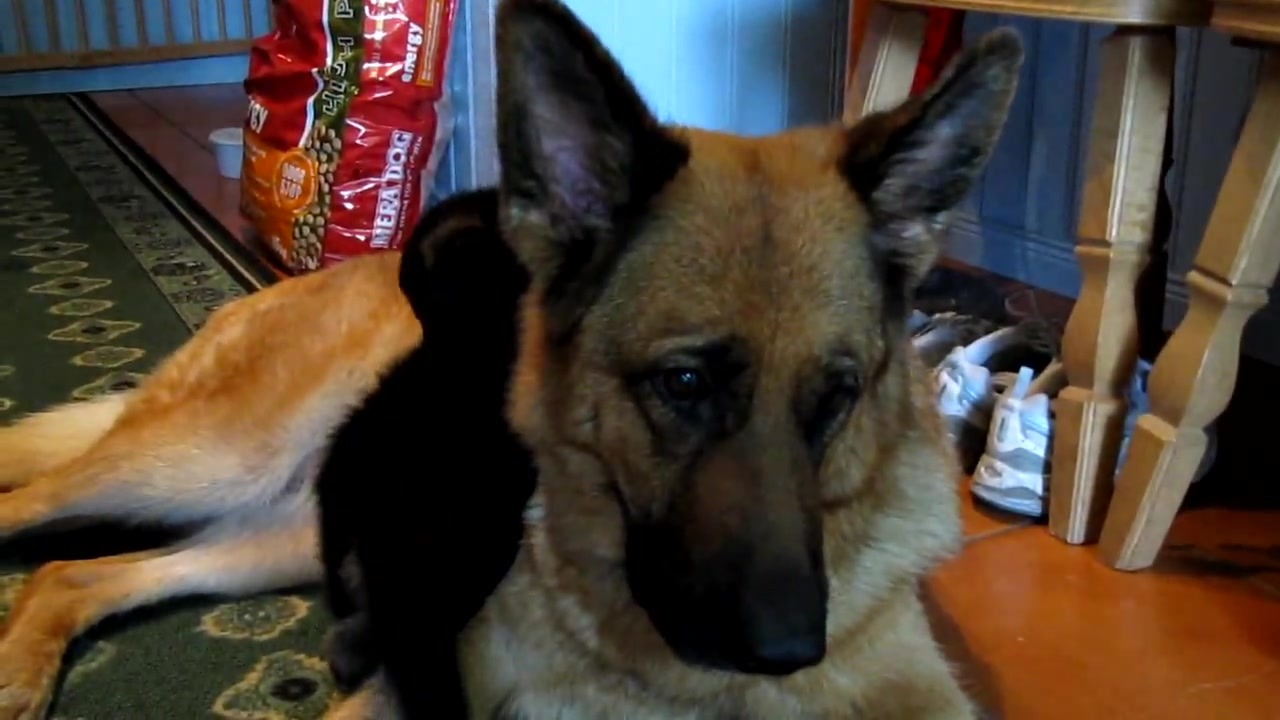dog: (1, 1, 1026, 720)
